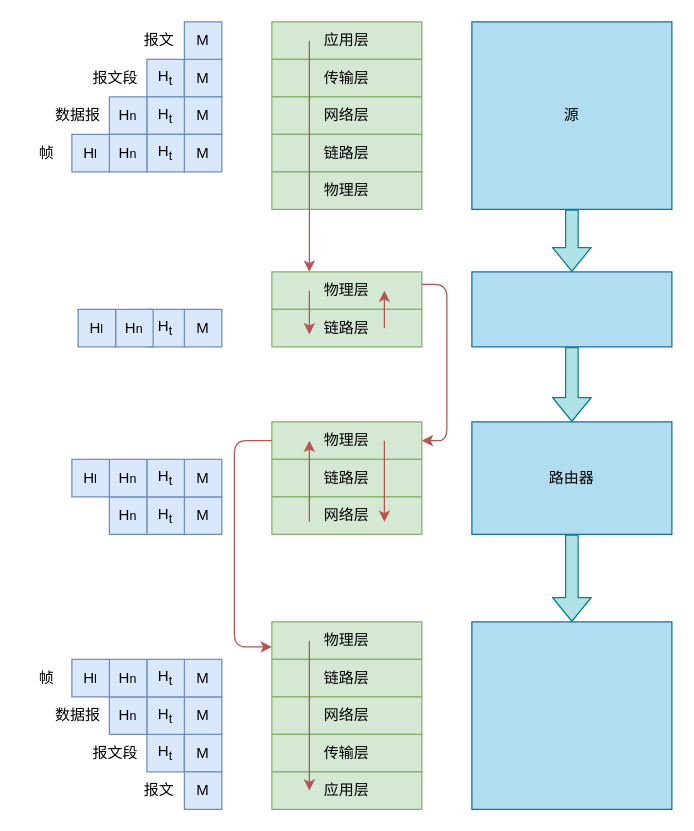
This 694x831 diagram has some shape labels left out. Each missing label, with the box of its shape:
目的地: (471, 621, 672, 809)
链路层交换机: (471, 271, 672, 347)
